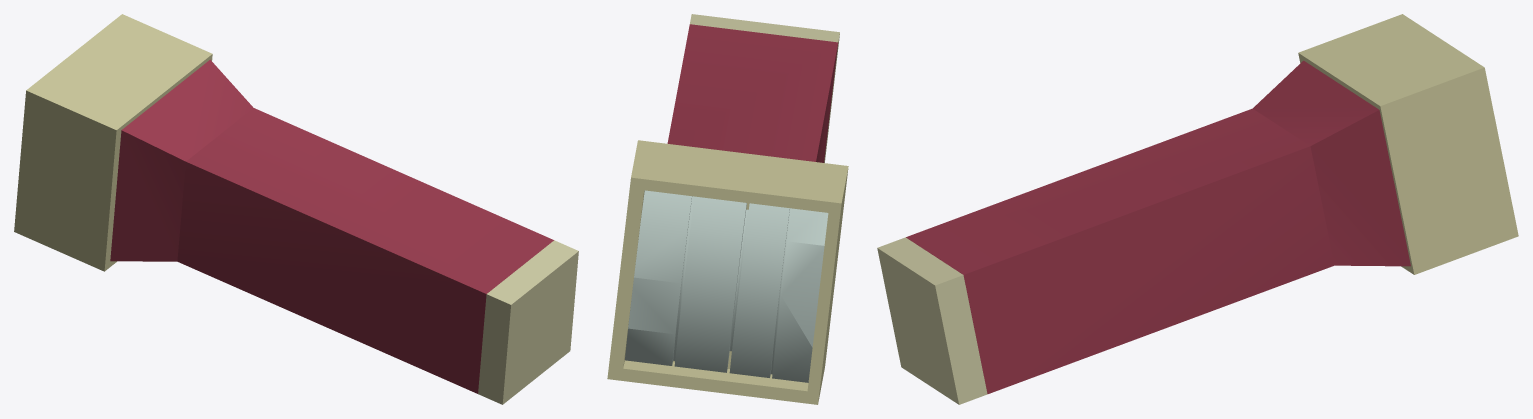
Rendered from bigLight (1).glb.
3 views of the same model, side by side, from view 1: azimuth 30°, elevation 25°; view 2: azimuth 150°, elevation 25°; view 3: azimuth 270°, elevation 25° (orthographic). The views are drawn at different scales.
Parts seen in each view (by area): view 1: BIG-LIGHT || Doraemon; view 2: BIG-LIGHT || Doraemon; view 3: BIG-LIGHT || Doraemon.
Boxes of the visible parts, bbox=[...] form: BIG-LIGHT || Doraemon: bbox=[14, 14, 578, 404]; BIG-LIGHT || Doraemon: bbox=[607, 14, 848, 404]; BIG-LIGHT || Doraemon: bbox=[877, 14, 1518, 404].
Bounding box in the file's own units: 0.2769 × 0.1724 × 0.4166.
4 materials, 3 textured.
